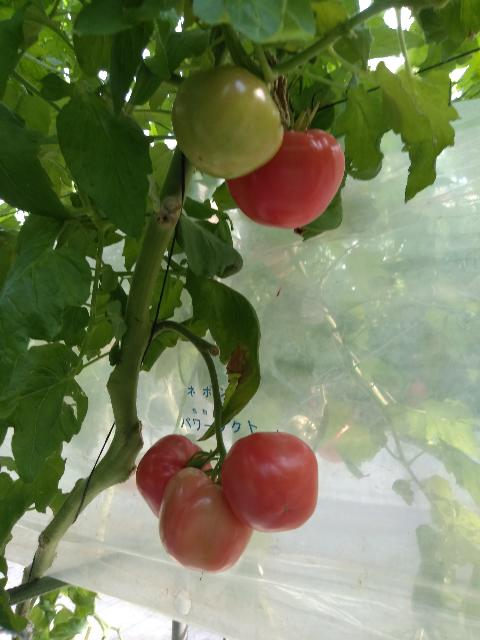b_fully_ripened: (225, 129, 346, 228), (221, 432, 319, 533), (135, 434, 218, 520)
b_half_ripened: (172, 66, 284, 179), (158, 467, 254, 573)
